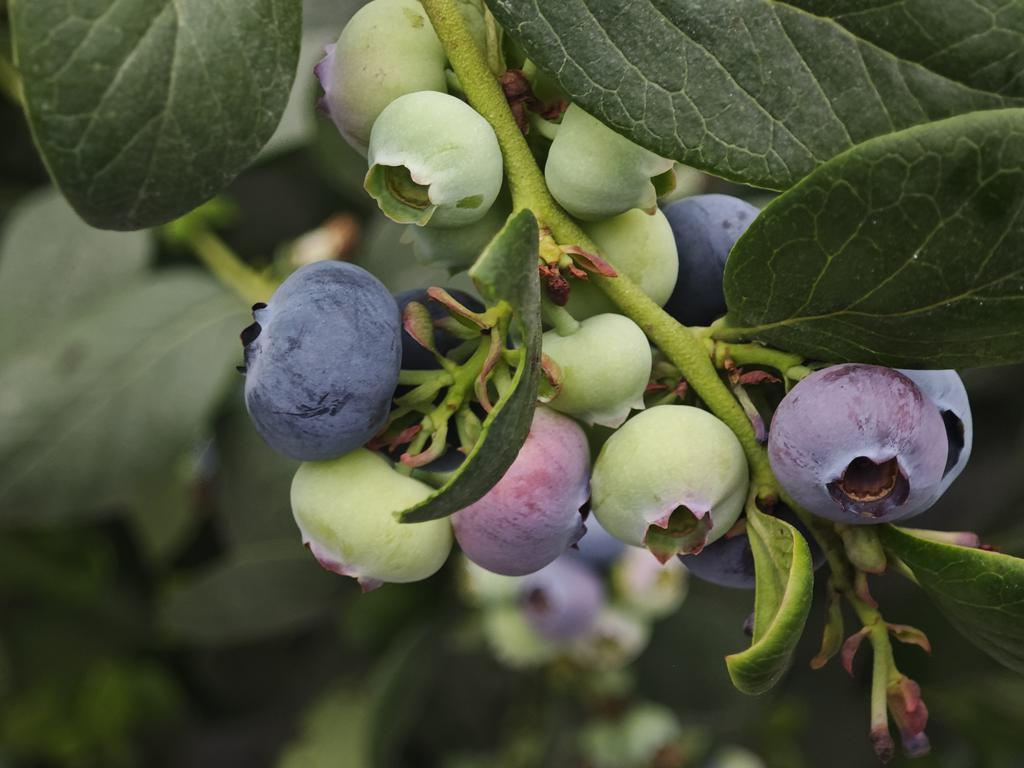RipeBlueBerry: (233, 250, 421, 461)
Semi-RipeBlueBerry: (777, 351, 942, 550)
UnripeBlueBerry: (594, 393, 764, 601), (451, 398, 616, 591), (353, 92, 522, 223)
